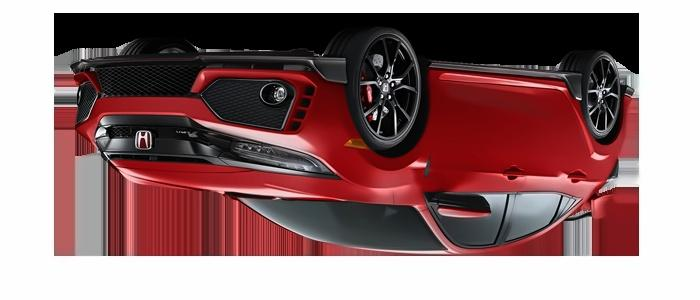Car hood: (104, 154, 383, 204)
Driver-s door - -F-R-: (436, 68, 525, 256)
Fender - -F-R-: (333, 64, 435, 214)
Fender - -R-R-: (512, 75, 592, 243), (571, 71, 610, 174)
Front bumper: (63, 45, 352, 136)
Headlight - -R-: (223, 133, 338, 185)
Rear bumper: (618, 77, 639, 147)
Rear light - -R-: (602, 150, 623, 187)
Side bumper - -R-: (421, 51, 574, 94)
Side mirror - -R-: (422, 185, 493, 222)
